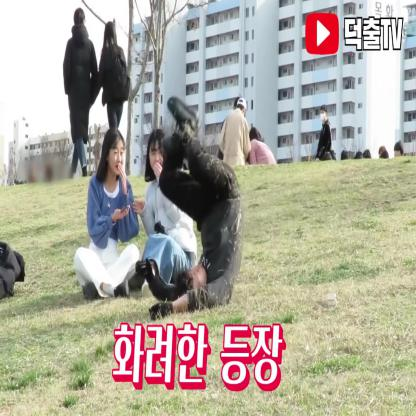Fall_Down: (132, 92, 248, 321)
